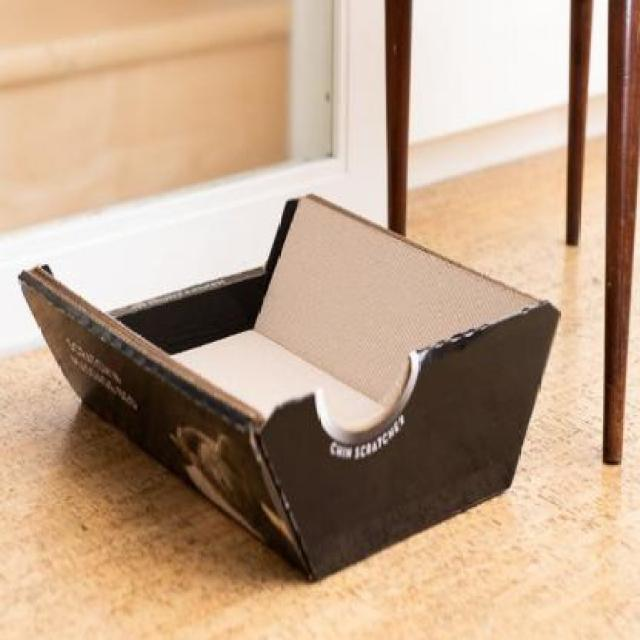box: (15, 178, 576, 588)
